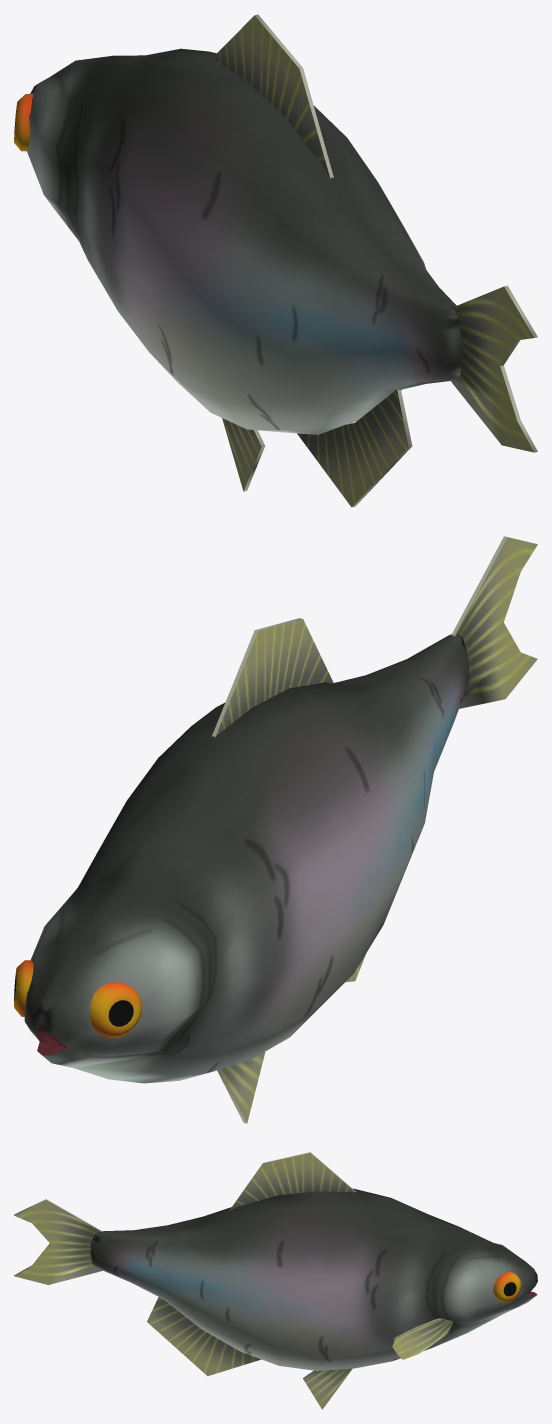
The model's file is European_Bitterling.fbx.
3 renders of one model, top to bottom at view 1: azimuth 30°, elevation 25°; view 2: azimuth 150°, elevation 25°; view 3: azimuth 270°, elevation 25°, orthographic. The views are drawn at different scales.
Parts seen in each view (by area): view 1: Europeean Bitterling.002; view 2: Europeean Bitterling.002; view 3: Europeean Bitterling.002.
Part boxes in pixels (box(x1,y1,x2,y2)): Europeean Bitterling.002: box(14, 14, 537, 507); Europeean Bitterling.002: box(14, 536, 537, 1123); Europeean Bitterling.002: box(14, 1152, 537, 1409).
Size of the model in its own units: 2.33 by 5.71 by 10.56.
1 material, 1 textured.
